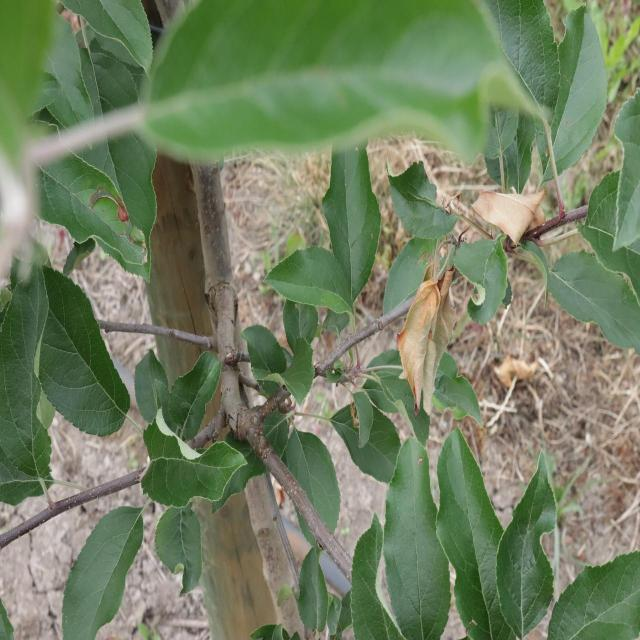-FireBlight-: (404, 267, 458, 406), (466, 191, 547, 236)
